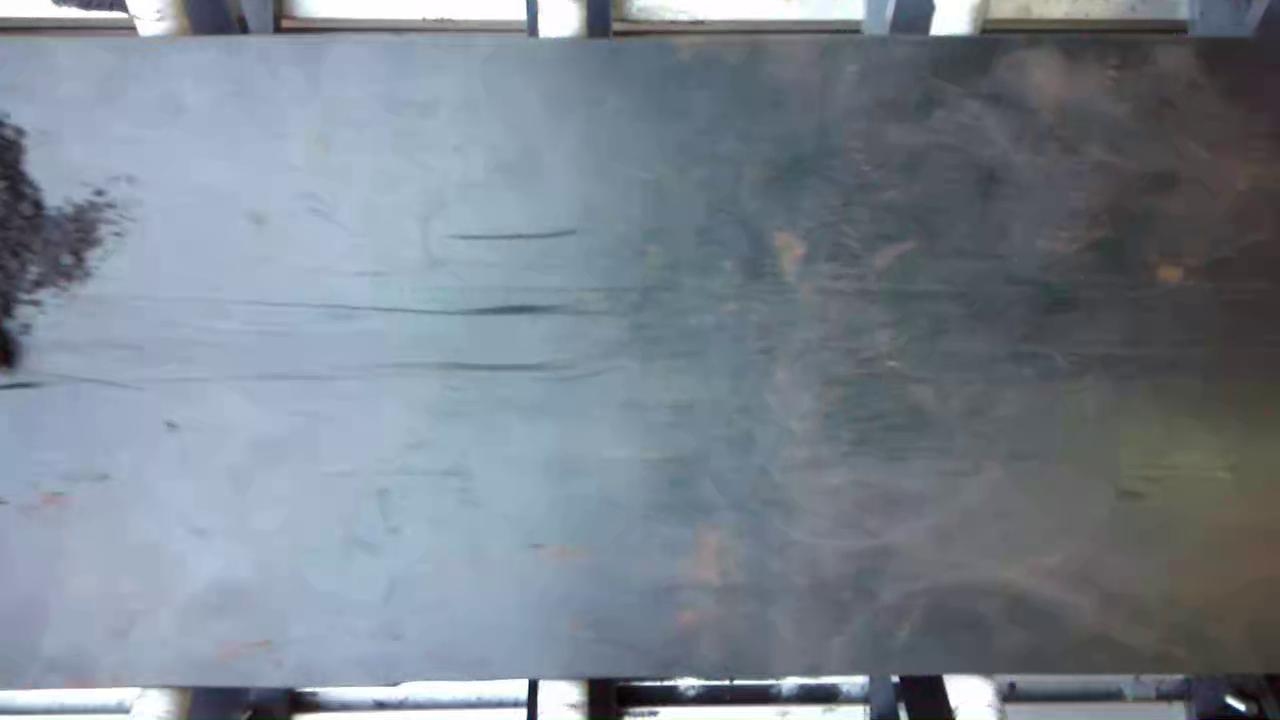conveyor: (0, 46, 1278, 662)
